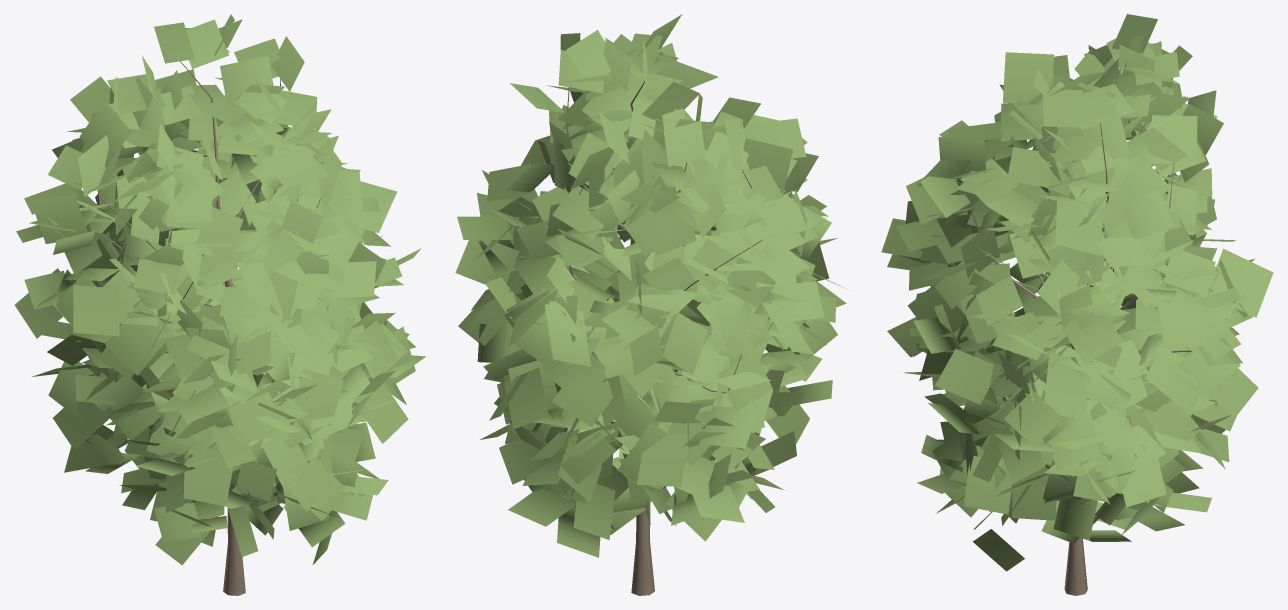
The model's file is Maple_11_young_lod1.glb.
The picture shows the model from 3 angles, left to right: view 1: azimuth 30°, elevation 25°; view 2: azimuth 150°, elevation 25°; view 3: azimuth 270°, elevation 25°; orthographic projection. The views are drawn at different scales.
Parts seen in each view (by area): view 1: Maple_11_young_lod1; view 2: Maple_11_young_lod1; view 3: Maple_11_young_lod1.
Part boxes in pixels (<box>): Maple_11_young_lod1: <box>14,14,425,595</box>; Maple_11_young_lod1: <box>455,14,850,595</box>; Maple_11_young_lod1: <box>881,14,1273,595</box>.
Bounding box in the file's own units: 7.46 × 11.25 × 7.09.
